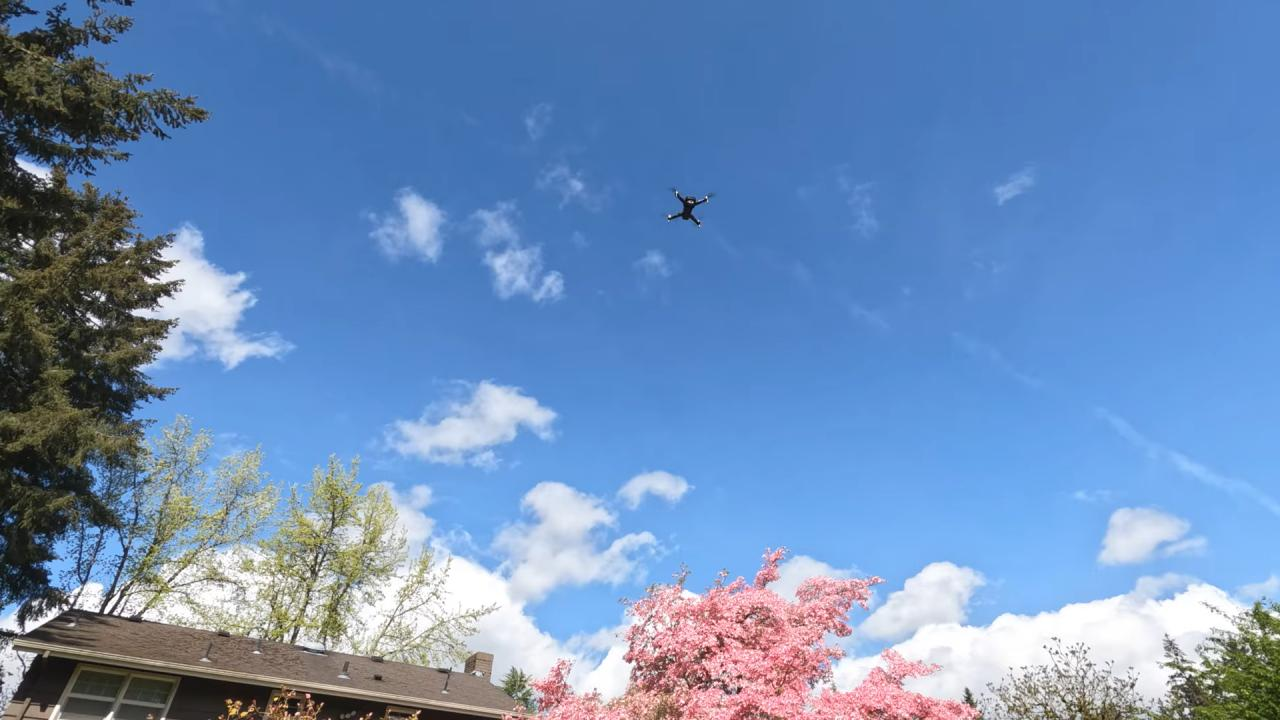Drone: (654, 178, 725, 233)
